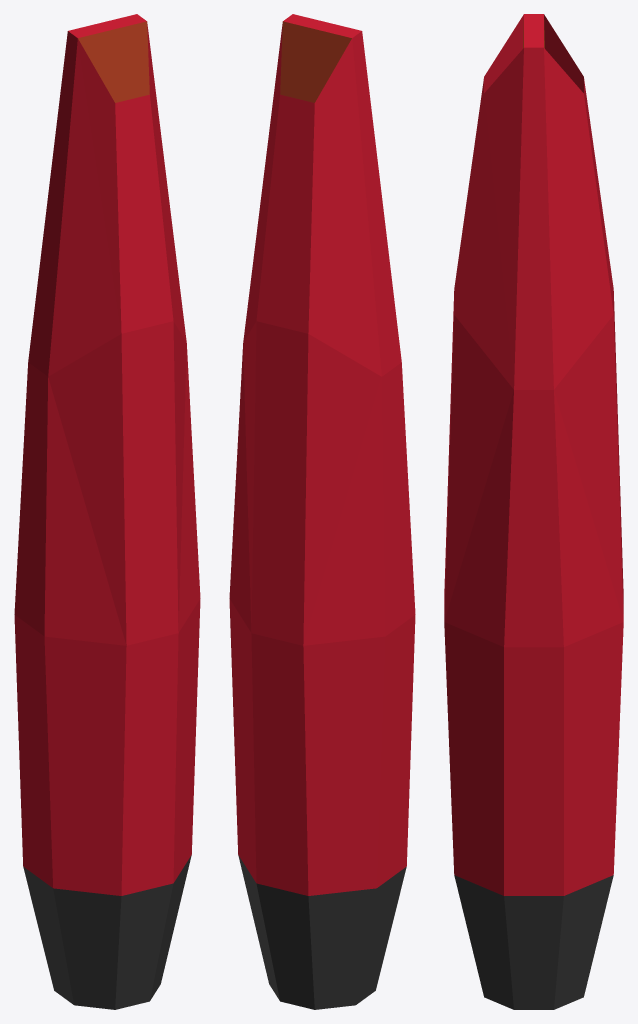
Rendered from VoidLeg2.FBX.
The picture shows the model from 3 angles, left to right: view 1: azimuth 30°, elevation 25°; view 2: azimuth 150°, elevation 25°; view 3: azimuth 270°, elevation 25°; orthographic projection.
Visible parts, largest first — view 1: VIFS002, VIFS003, VIFS004; view 2: VIFS002, VIFS003, VIFS004; view 3: VIFS002, VIFS003.
Part boxes in pixels (left/top/right/bottom): VIFS002: left=14, top=14, right=200, bottom=895; VIFS003: left=23, top=855, right=191, bottom=1009; VIFS004: left=78, top=21, right=149, bottom=102; VIFS002: left=229, top=14, right=415, bottom=895; VIFS003: left=238, top=855, right=406, bottom=1009; VIFS004: left=280, top=21, right=351, bottom=102; VIFS002: left=444, top=14, right=623, bottom=895; VIFS003: left=454, top=875, right=613, bottom=1009.
Bounding box in the file's own units: 0.27 × 1.59 × 0.27.
